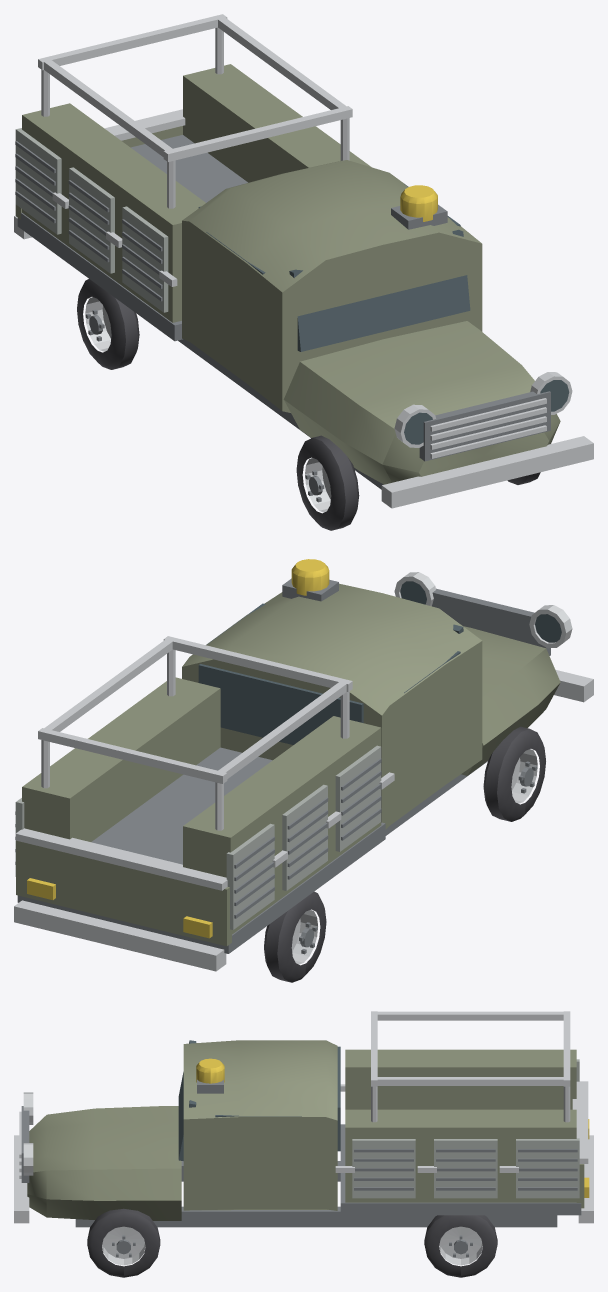
Rendered from cold-war-missile-silo-and-command-bunker-utility-picku-23051fb1__15684.glb.
3 renders of one model, top to bottom at view 1: azimuth 30°, elevation 25°; view 2: azimuth 150°, elevation 25°; view 3: azimuth 270°, elevation 25°, orthographic. The views are drawn at different scales.
Visible parts, largest first — view 1: utility-pickup, wheel-front-left (×2), wheel-rear-left (×2); view 2: utility-pickup, wheel-front-left (×2), wheel-rear-left (×2); view 3: utility-pickup, wheel-front-right (×2), wheel-rear-right (×2).
Part boxes in pixels (x1=…): utility-pickup: x1=14, y1=14, x2=593, y2=508; wheel-front-left (×2): x1=296, y1=435, x2=359, y2=530; wheel-rear-left (×2): x1=77, y1=279, x2=139, y2=369; utility-pickup: x1=14, y1=559, x2=593, y2=971; wheel-front-left (×2): x1=483, y1=726, x2=545, y2=821; wheel-rear-left (×2): x1=264, y1=891, x2=326, y2=982; utility-pickup: x1=14, y1=1011, x2=593, y2=1227; wheel-front-right (×2): x1=87, y1=1208, x2=160, y2=1277; wheel-rear-right (×2): x1=424, y1=1215, x2=497, y2=1277.
Size of the model in its own units: 2.05 by 2.26 by 6.02.
